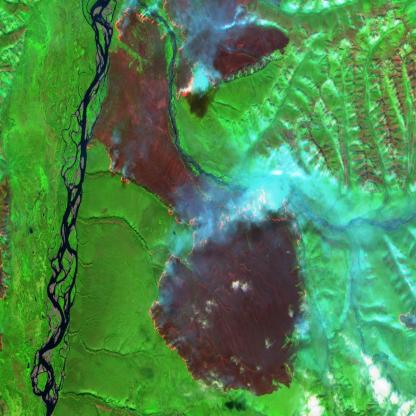fire: (79, 0, 311, 399), (390, 299, 416, 341)
